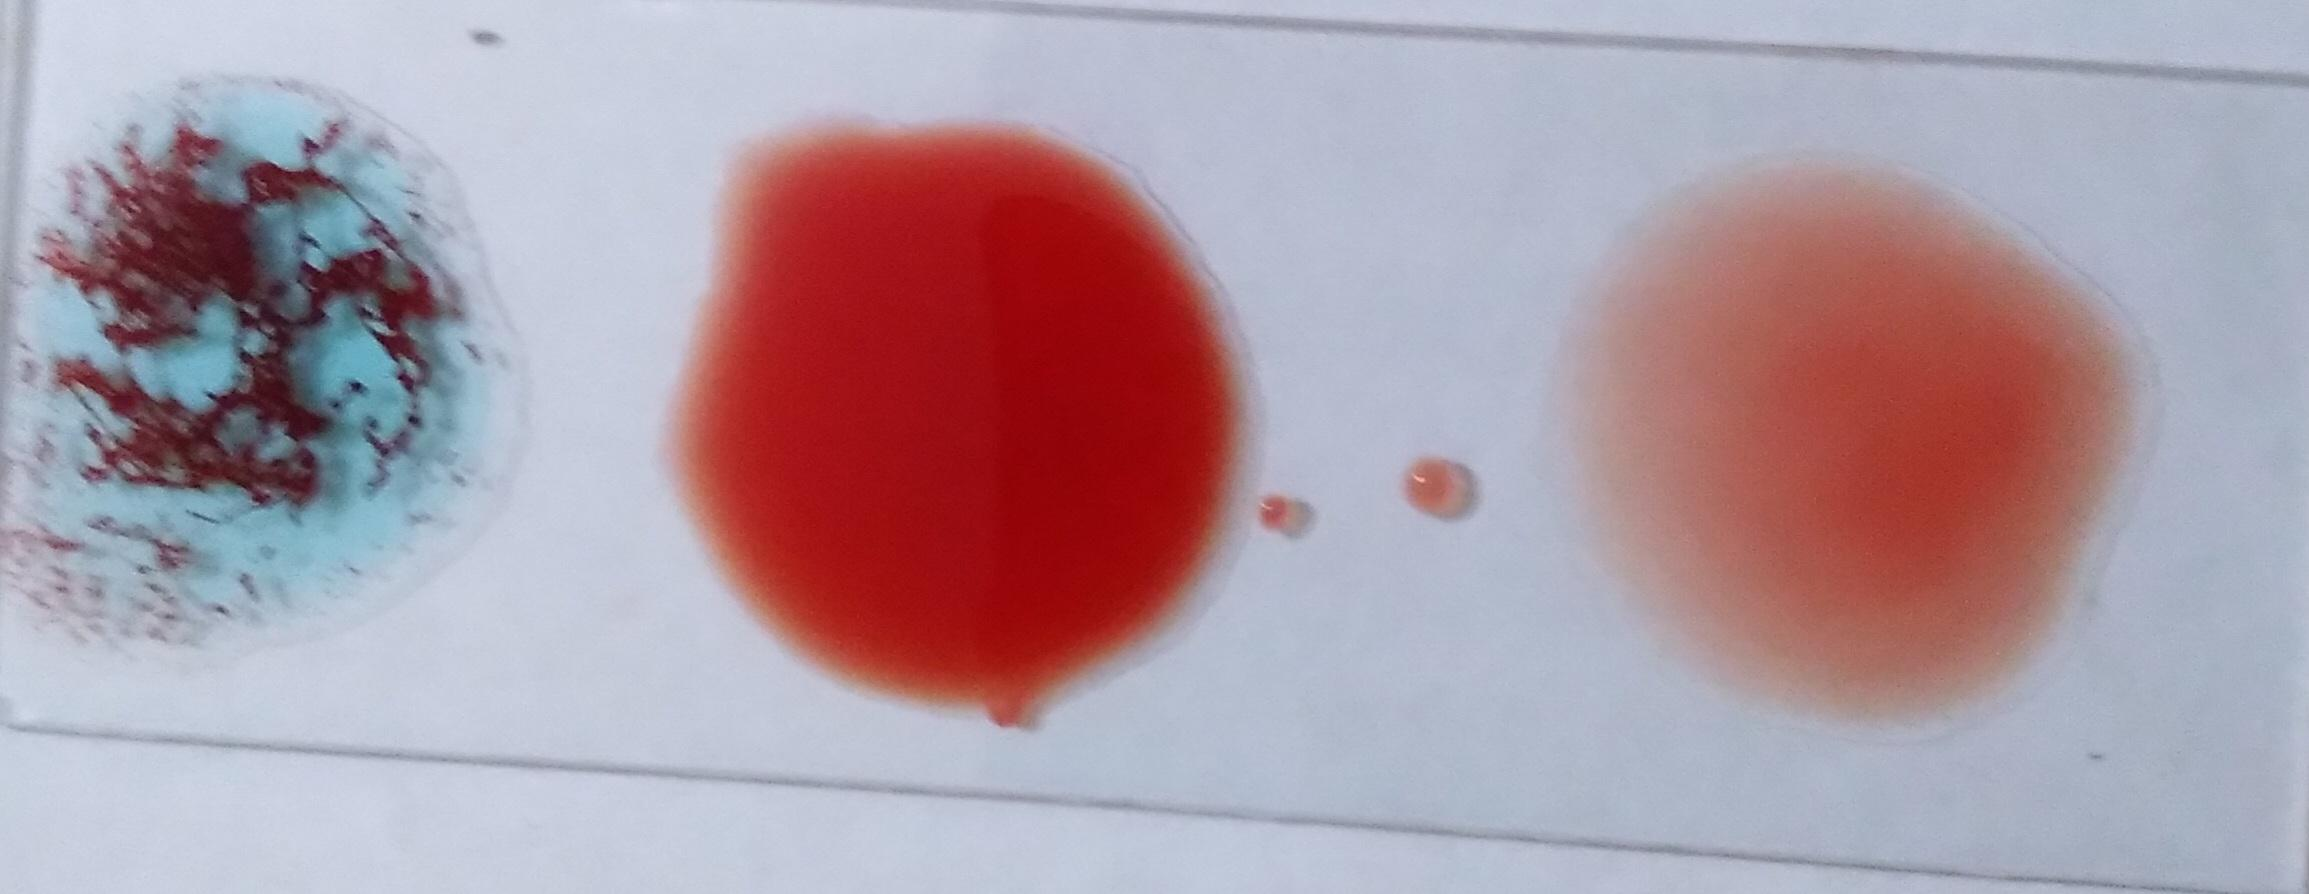A: (18, 71, 483, 647)
